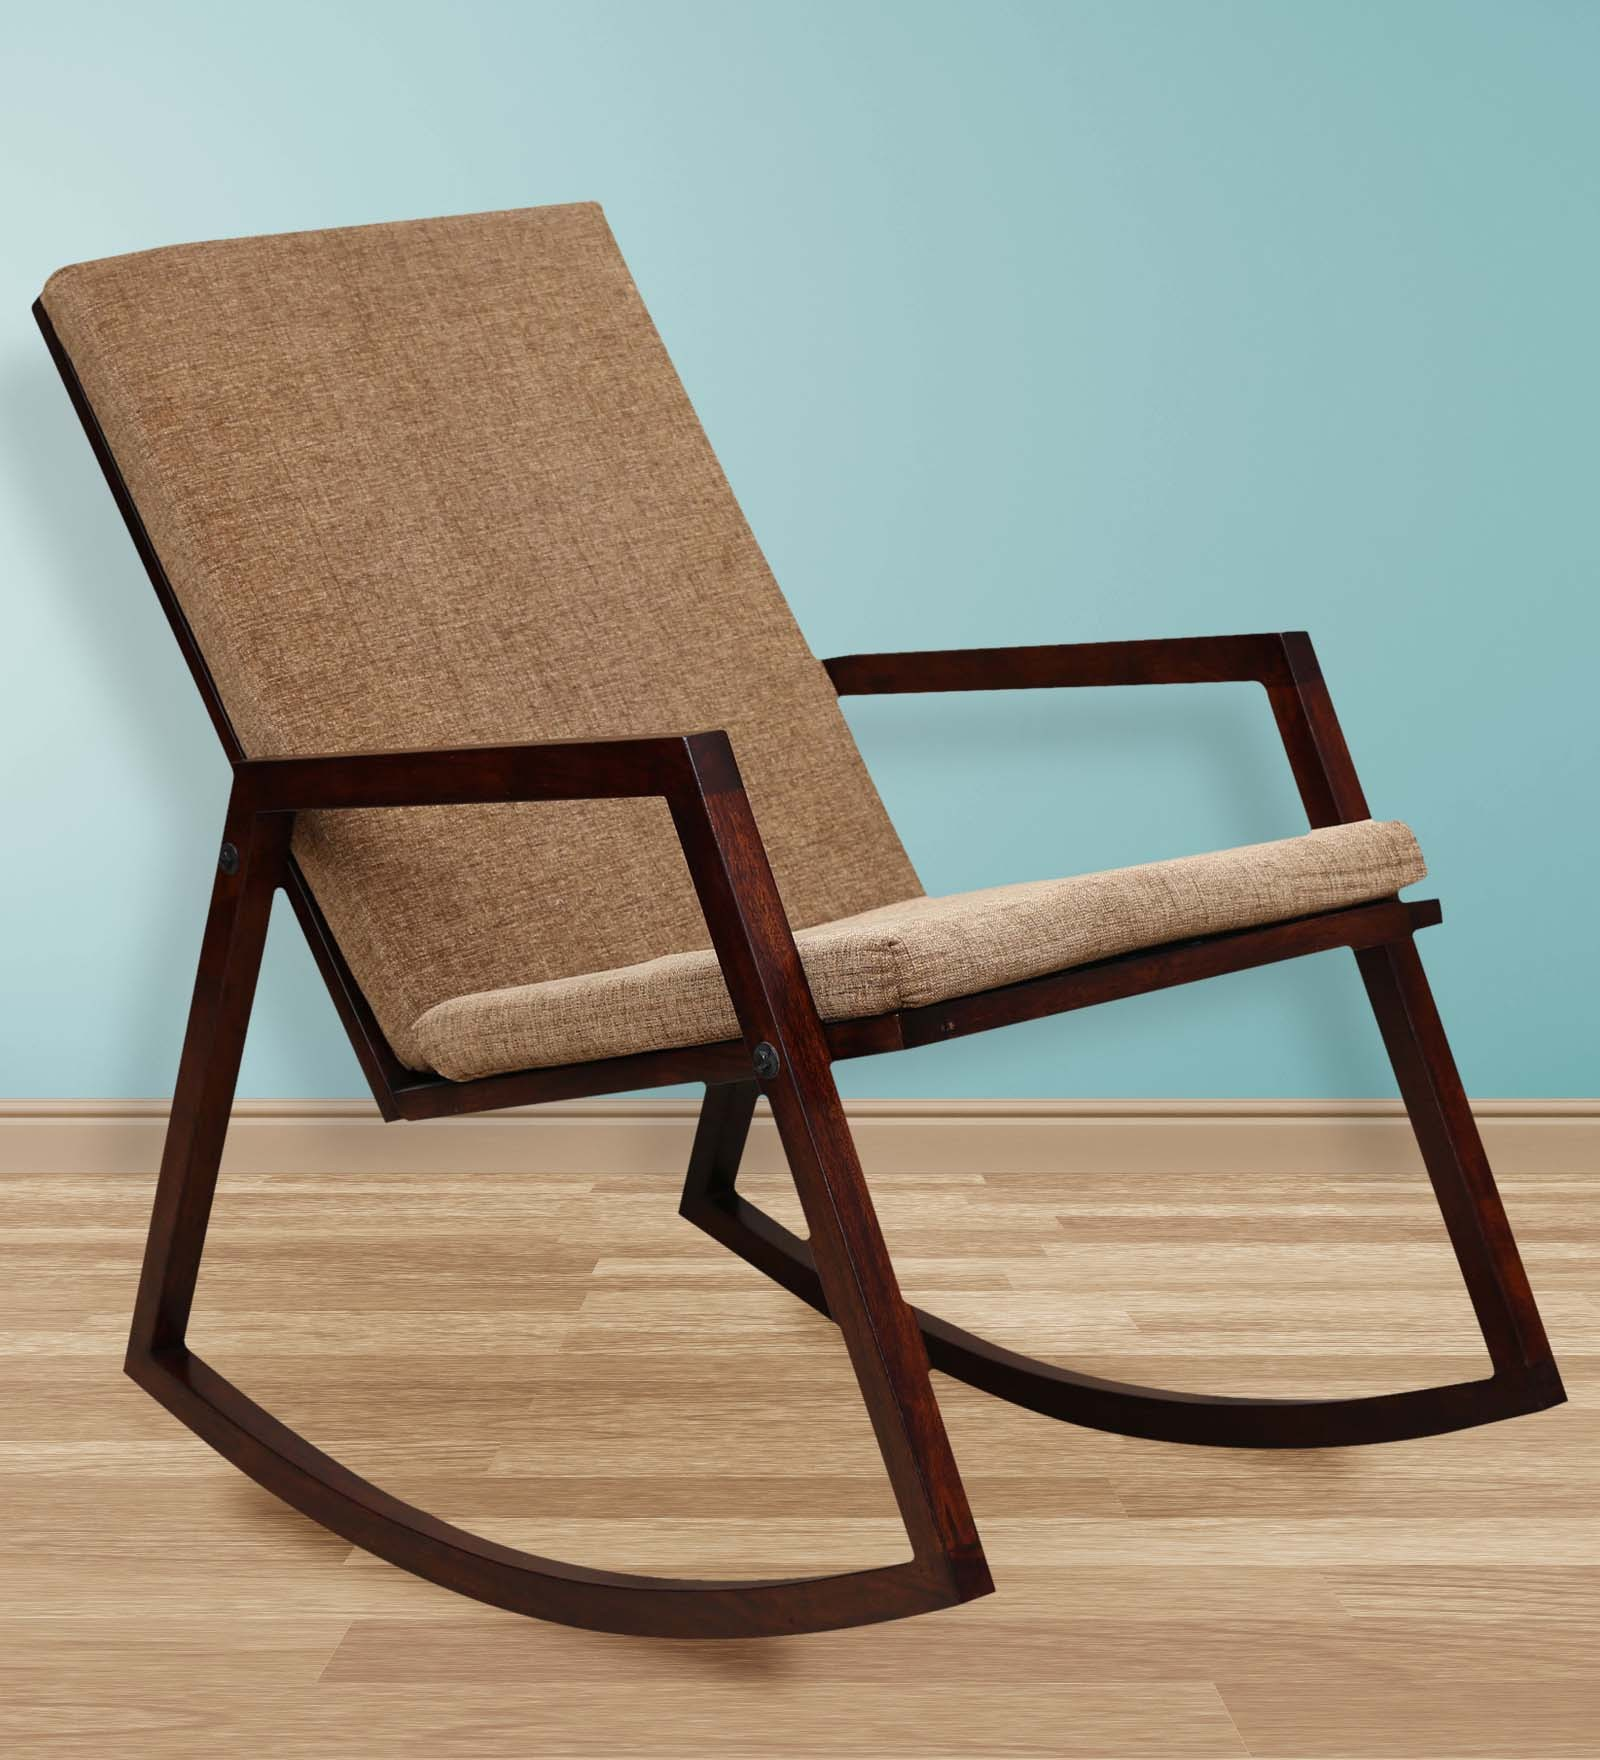Ace Rocking Chair in Brown Colour by HomeTown: (21, 182, 1582, 1685)
